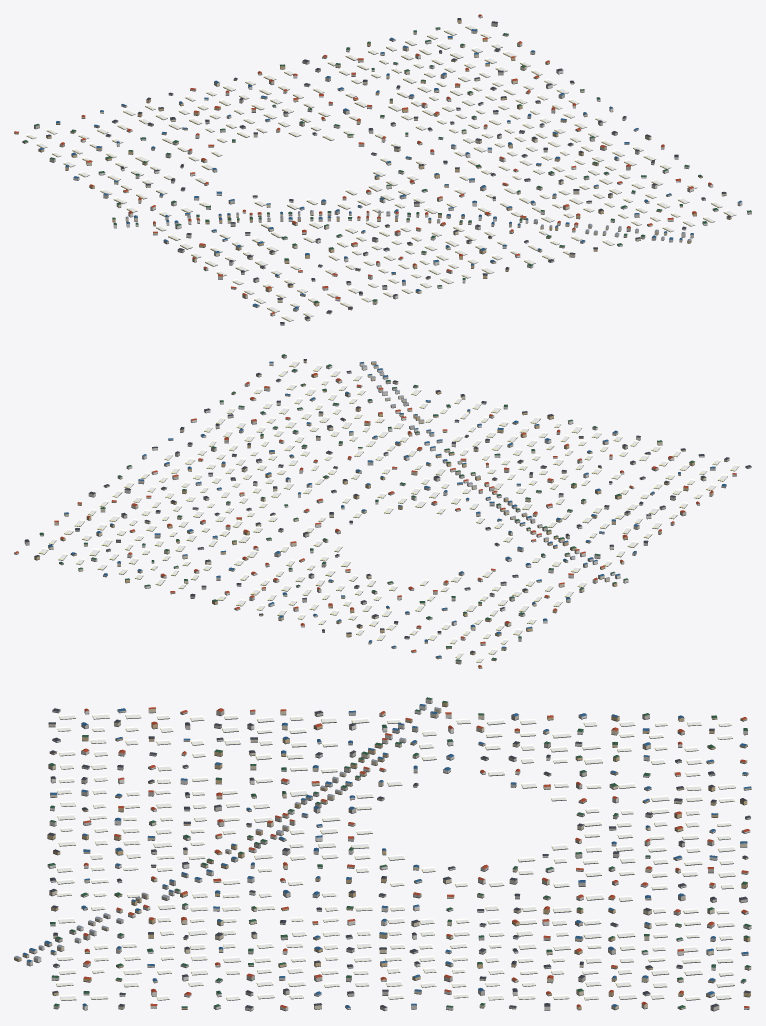
Rendered from buildings_T_W05_N07.glb.
3 views of the same model, one above another, from view 1: azimuth 30°, elevation 25°; view 2: azimuth 150°, elevation 25°; view 3: azimuth 270°, elevation 25° (orthographic). The views are drawn at different scales.
Visible parts, largest first — view 1: T_W05_N07_roofs_agri_greenhouse_arch, T_W05_N07_slope_seating_foundations, T_W05_N07_walls_wall_dalat_cream_stucco, T_W05_N07_walls_wall_pastel_sand_gray, T_W05_N07_walls_wall_modern_warm_white, T_W05_N07_walls_wall_french_ochre_villa, T_W05_N07_roofs_roof_slate_French_villa_hip, T_W05_N07_roofs_roof_highland_blue_gable, T_W05_N07_roofs_roof_terracotta_gable, T_W05_N07_roofs_roof_pine_green_hip; view 2: T_W05_N07_roofs_agri_greenhouse_arch, T_W05_N07_slope_seating_foundations, T_W05_N07_walls_wall_dalat_cream_stucco, T_W05_N07_walls_wall_pastel_sand_gray, T_W05_N07_walls_wall_modern_warm_white, T_W05_N07_walls_wall_french_ochre_villa, T_W05_N07_roofs_roof_slate_French_villa_hip, T_W05_N07_roofs_roof_highland_blue_gable, T_W05_N07_roofs_roof_terracotta_gable, T_W05_N07_roofs_roof_pine_green_hip; view 3: T_W05_N07_roofs_agri_greenhouse_arch, T_W05_N07_slope_seating_foundations, T_W05_N07_walls_wall_pastel_sand_gray, T_W05_N07_walls_wall_dalat_cream_stucco, T_W05_N07_walls_wall_modern_warm_white, T_W05_N07_walls_wall_french_ochre_villa, T_W05_N07_roofs_roof_slate_French_villa_hip, T_W05_N07_roofs_roof_highland_blue_gable, T_W05_N07_roofs_roof_terracotta_gable, T_W05_N07_roofs_roof_pine_green_hip.
Boxes of the visible parts, x1=… form: T_W05_N07_roofs_agri_greenhouse_arch: x1=26, y1=24, x2=736, y2=321; T_W05_N07_slope_seating_foundations: x1=14, y1=16, x2=751, y2=325; T_W05_N07_walls_wall_dalat_cream_stucco: x1=81, y1=30, x2=726, y2=320; T_W05_N07_walls_wall_pastel_sand_gray: x1=34, y1=23, x2=751, y2=325; T_W05_N07_walls_wall_modern_warm_white: x1=73, y1=16, x2=742, y2=315; T_W05_N07_walls_wall_french_ochre_villa: x1=14, y1=19, x2=731, y2=309; T_W05_N07_roofs_roof_slate_French_villa_hip: x1=46, y1=18, x2=731, y2=324; T_W05_N07_roofs_roof_highland_blue_gable: x1=39, y1=29, x2=741, y2=309; T_W05_N07_roofs_roof_terracotta_gable: x1=14, y1=14, x2=712, y2=314; T_W05_N07_roofs_roof_pine_green_hip: x1=22, y1=27, x2=751, y2=303; T_W05_N07_roofs_agri_greenhouse_arch: x1=38, y1=360, x2=739, y2=662; T_W05_N07_slope_seating_foundations: x1=14, y1=357, x2=751, y2=668; T_W05_N07_walls_wall_dalat_cream_stucco: x1=39, y1=365, x2=729, y2=652; T_W05_N07_walls_wall_pastel_sand_gray: x1=24, y1=355, x2=751, y2=663; T_W05_N07_walls_wall_modern_warm_white: x1=14, y1=363, x2=736, y2=640; T_W05_N07_walls_wall_french_ochre_villa: x1=34, y1=361, x2=694, y2=668; T_W05_N07_roofs_roof_slate_French_villa_hip: x1=25, y1=359, x2=751, y2=652; T_W05_N07_roofs_roof_highland_blue_gable: x1=48, y1=361, x2=726, y2=657; T_W05_N07_roofs_roof_terracotta_gable: x1=14, y1=373, x2=736, y2=667; T_W05_N07_roofs_roof_pine_green_hip: x1=39, y1=354, x2=694, y2=661; T_W05_N07_roofs_agri_greenhouse_arch: x1=56, y1=713, x2=735, y2=1000; T_W05_N07_slope_seating_foundations: x1=14, y1=702, x2=751, y2=1011; T_W05_N07_walls_wall_pastel_sand_gray: x1=44, y1=710, x2=750, y2=1010; T_W05_N07_walls_wall_dalat_cream_stucco: x1=22, y1=708, x2=751, y2=1009; T_W05_N07_walls_wall_modern_warm_white: x1=26, y1=699, x2=751, y2=1010; T_W05_N07_walls_wall_french_ochre_villa: x1=14, y1=702, x2=750, y2=1009; T_W05_N07_roofs_roof_slate_French_villa_hip: x1=47, y1=708, x2=750, y2=1008; T_W05_N07_roofs_roof_highland_blue_gable: x1=23, y1=704, x2=751, y2=1008; T_W05_N07_roofs_roof_terracotta_gable: x1=81, y1=707, x2=749, y2=1008; T_W05_N07_roofs_roof_pine_green_hip: x1=48, y1=697, x2=751, y2=1008.
Size of the model in its own units: 1830 by 37.04 by 1838.
